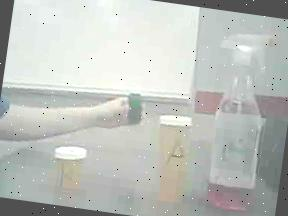Bottle A: (144, 109, 202, 210)
Bottle B: (47, 140, 95, 198)
Bottle C: (116, 80, 152, 128)
hazard: (191, 19, 286, 216)
